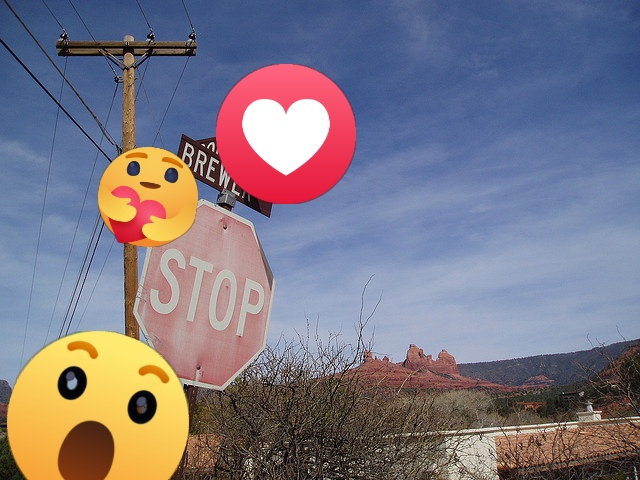care: (98, 147, 198, 247)
love: (216, 64, 356, 204)
wow: (7, 331, 189, 480)
